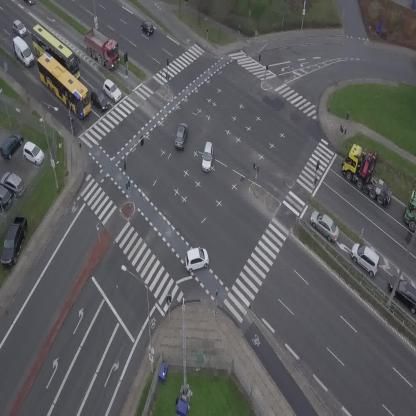bicycle: (68, 117, 75, 132)
bus: (28, 49, 100, 120), (22, 22, 89, 84)
car: (345, 239, 387, 279), (304, 207, 345, 244), (182, 245, 211, 273), (85, 86, 113, 113), (99, 78, 125, 103), (200, 141, 215, 172), (173, 122, 189, 150), (10, 18, 29, 39), (137, 18, 157, 37), (22, 0, 35, 6)
lorry: (334, 137, 398, 217), (76, 25, 128, 72), (7, 34, 37, 70), (403, 190, 416, 231)
